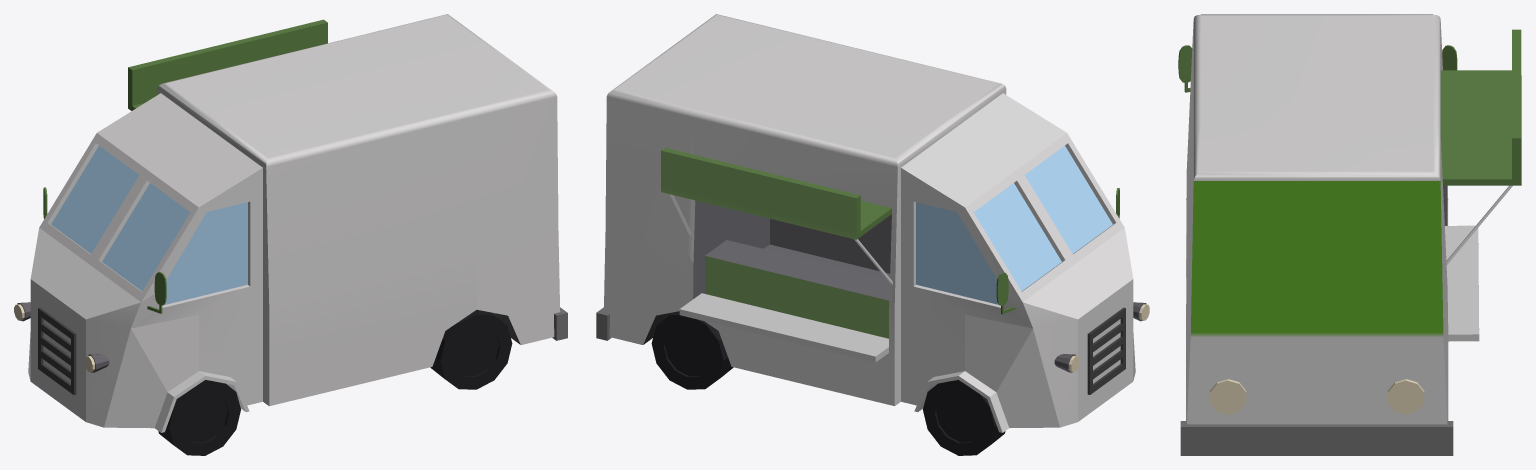
File: foodtruck04.fbx
3 views of the same model, side by side, from view 1: azimuth 30°, elevation 25°; view 2: azimuth 150°, elevation 25°; view 3: azimuth 270°, elevation 25° (orthographic). The views are drawn at different scales.
Parts seen in each view (by area): view 1: fbx_foodtruck04; view 2: fbx_foodtruck04; view 3: fbx_foodtruck04.
Boxes of the visible parts, x1,y1,x2,y2 form: fbx_foodtruck04: (14, 14, 567, 455); fbx_foodtruck04: (596, 14, 1149, 455); fbx_foodtruck04: (1178, 14, 1521, 455).
Size of the model in its own units: 6.28 by 3.65 by 3.6.
1 material, 1 textured.
